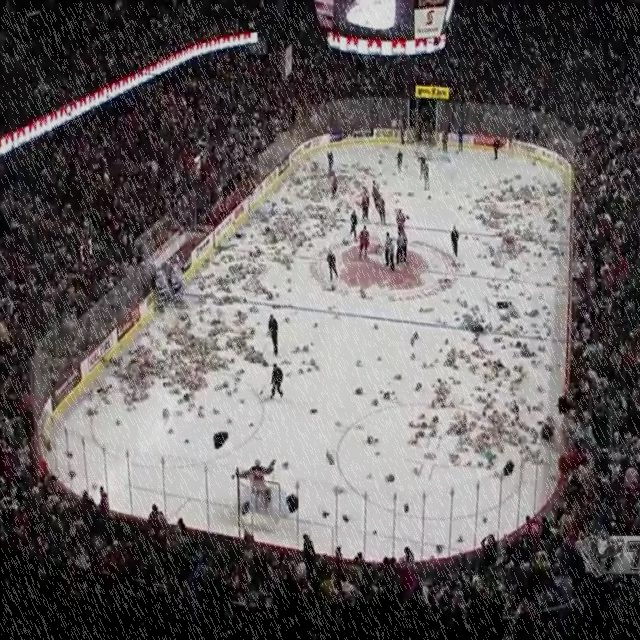pessoa: (0, 0, 288, 202), (557, 0, 639, 522), (195, 527, 502, 639), (0, 486, 197, 639), (500, 520, 640, 639), (0, 203, 63, 381), (62, 203, 123, 374), (0, 379, 56, 486), (122, 202, 194, 273), (235, 456, 278, 504), (514, 125, 556, 156), (515, 497, 557, 522), (354, 223, 372, 263), (268, 361, 284, 402), (194, 203, 218, 227), (324, 246, 340, 281), (373, 191, 388, 226), (267, 313, 279, 355), (448, 223, 462, 259), (394, 206, 406, 241), (386, 236, 397, 272), (414, 148, 426, 179), (400, 228, 409, 266), (348, 208, 358, 241), (368, 176, 379, 206), (456, 121, 466, 152), (396, 228, 404, 266), (360, 190, 370, 220), (490, 132, 500, 162), (384, 230, 392, 266), (397, 121, 408, 147), (324, 148, 334, 176), (422, 162, 431, 192), (441, 126, 450, 155), (396, 146, 404, 172)
